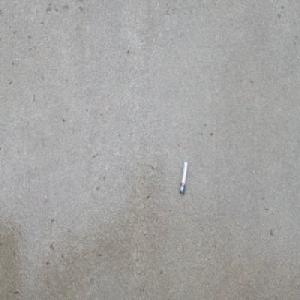Battery: (179, 159, 187, 193)
